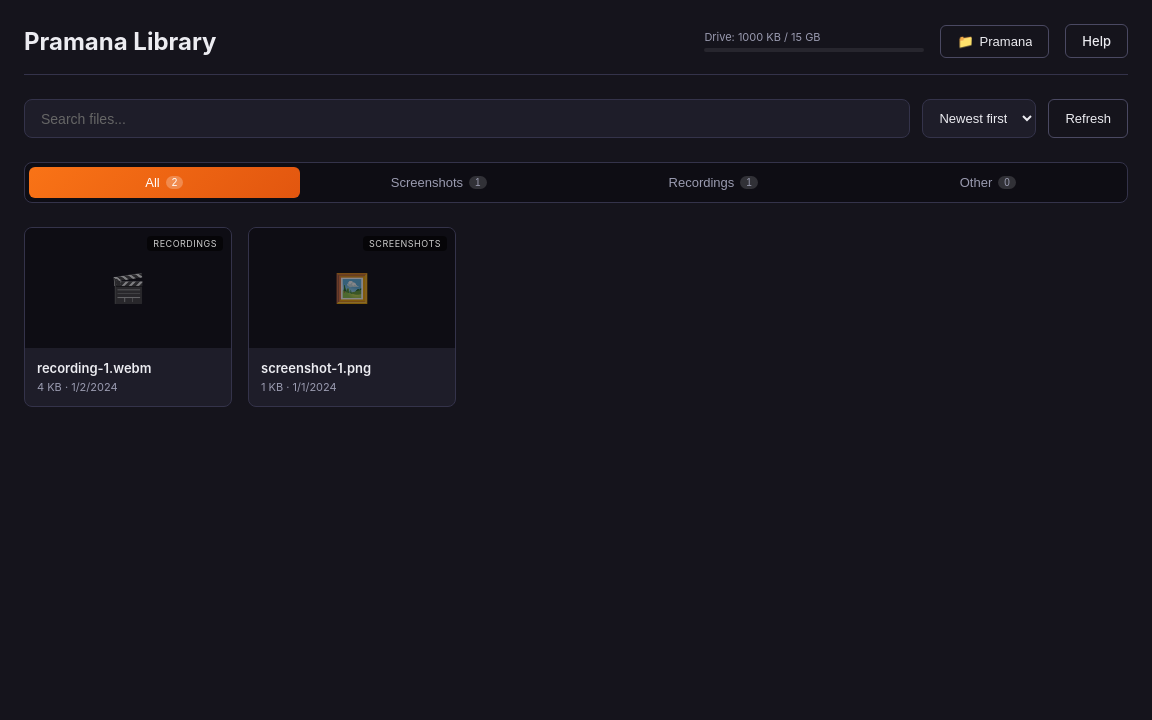
it: Dashboard App › moves a file to the trash after confirming in a dialog
What coordinates should you click on to do the following:
click the heading "screenshot-1.png"
I would click on:
 (316, 368)
Its box is [261, 360, 371, 376].
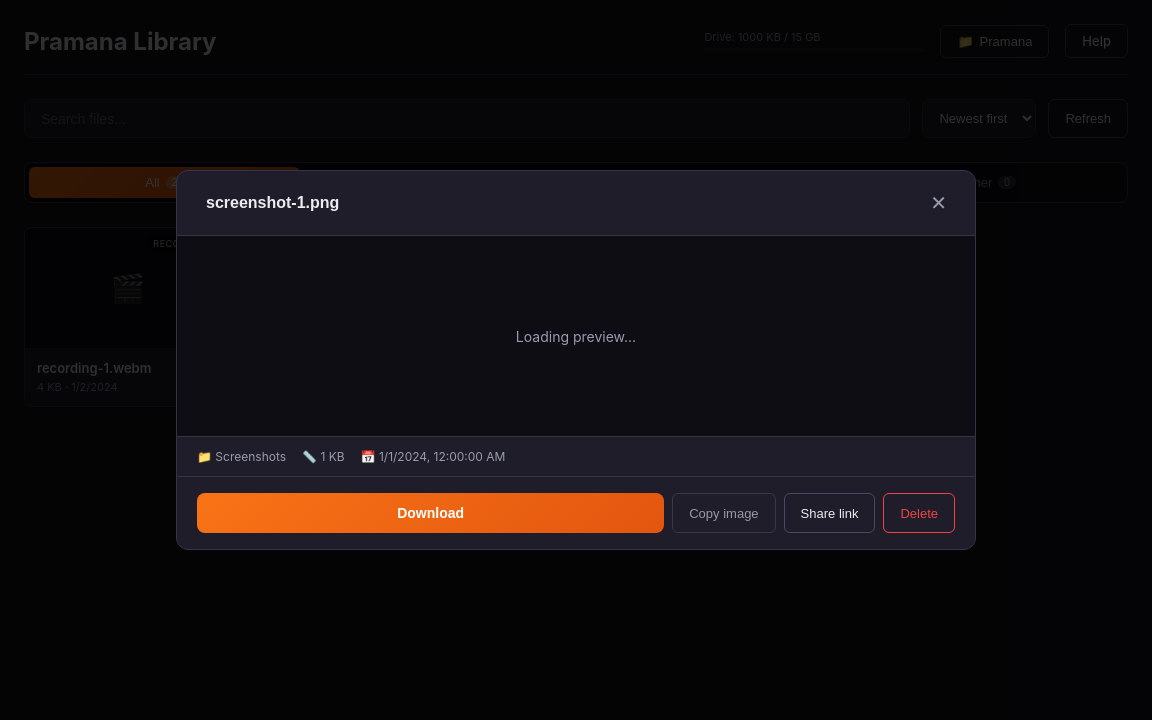
What coordinates should you click on to do the following:
click the button "Delete"
I would click on:
 (919, 513)
Its box is [883, 493, 955, 533].
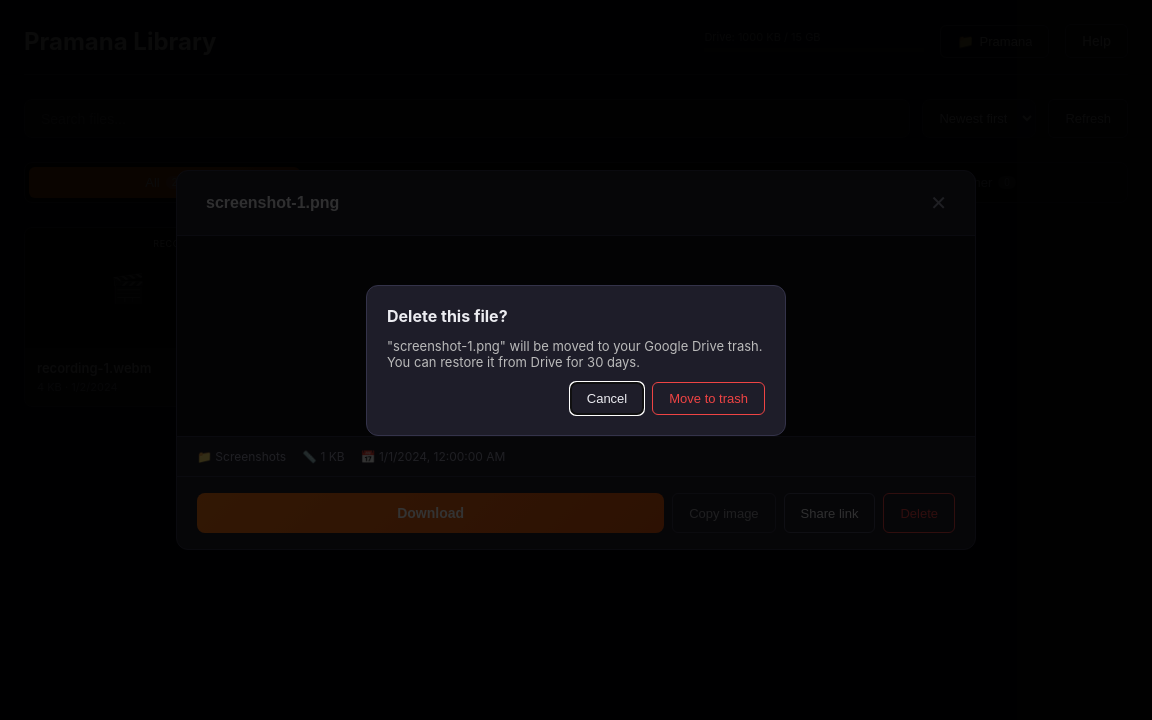
Now the text "moved to your Google Drive trash" is shown, box [387, 338, 762, 370]
What coordinates should you click on to do the following:
click the button "Move to trash"
I would click on:
 (709, 398)
Its box is [652, 382, 765, 414].
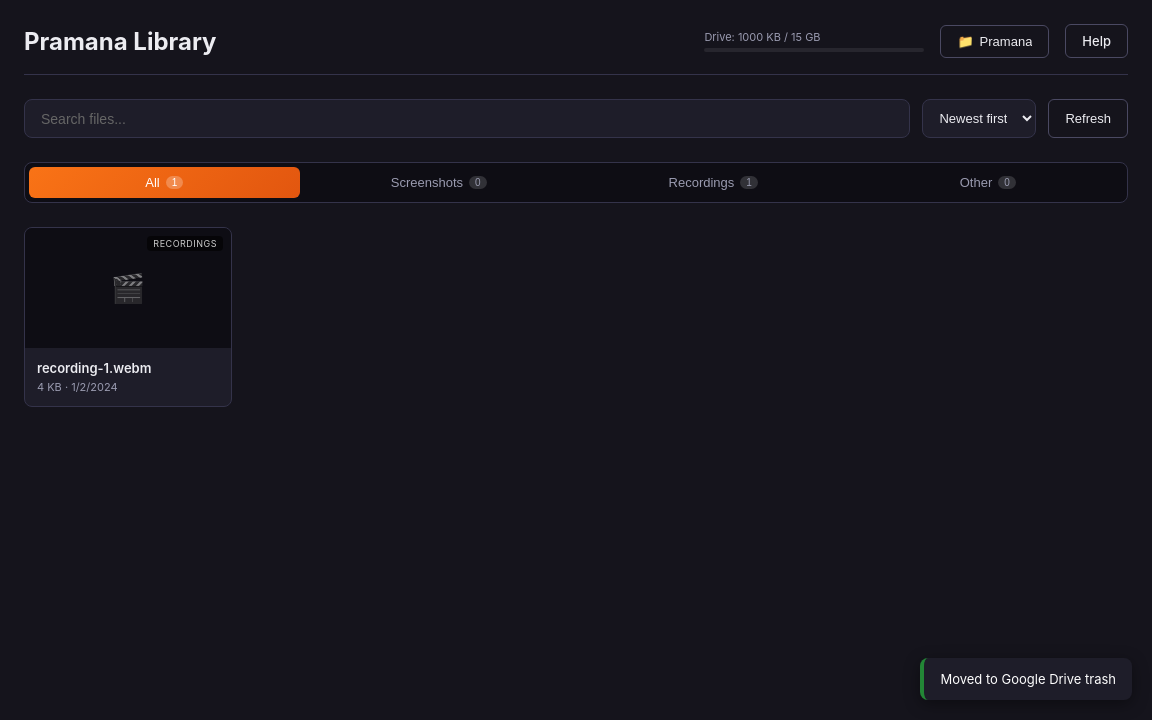
Now the button "screenshot-1.png" is gone
